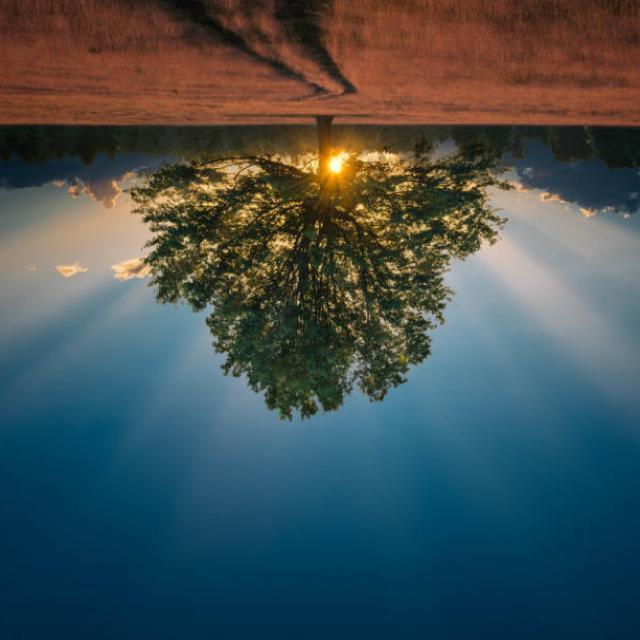tree: (149, 126, 475, 434)
